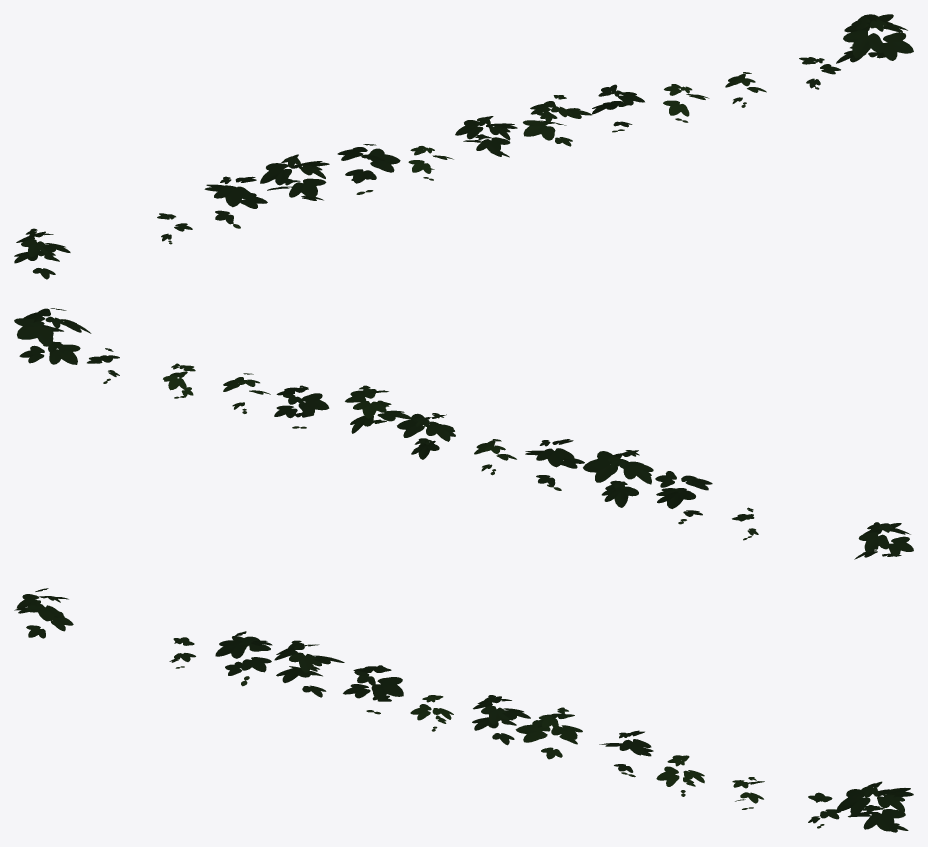
Rendered from ROW_04_SEG5_foliage.dae.
3 views of the same model, one above another, from view 1: azimuth 30°, elevation 25°; view 2: azimuth 150°, elevation 25°; view 3: azimuth 330°, elevation 25° (orthographic).
Visible parts, largest first — view 1: ROW_04_SEG5_foliage; view 2: ROW_04_SEG5_foliage; view 3: ROW_04_SEG5_foliage.
Part boxes in pixels (<box>): ROW_04_SEG5_foliage: <box>14,14,913,279</box>; ROW_04_SEG5_foliage: <box>14,308,913,559</box>; ROW_04_SEG5_foliage: <box>14,588,913,832</box>.
Size of the model in its own units: 4.25 by 0.3269 by 0.2608.
